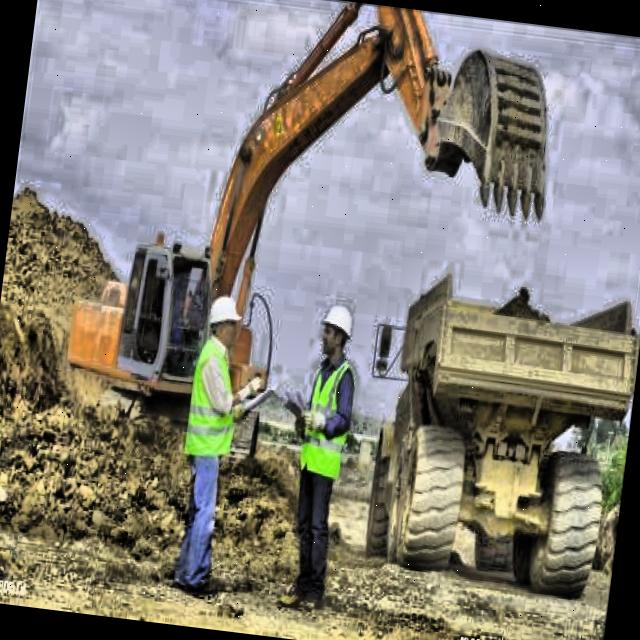helmet: (314, 294, 359, 366), (200, 290, 243, 352)
